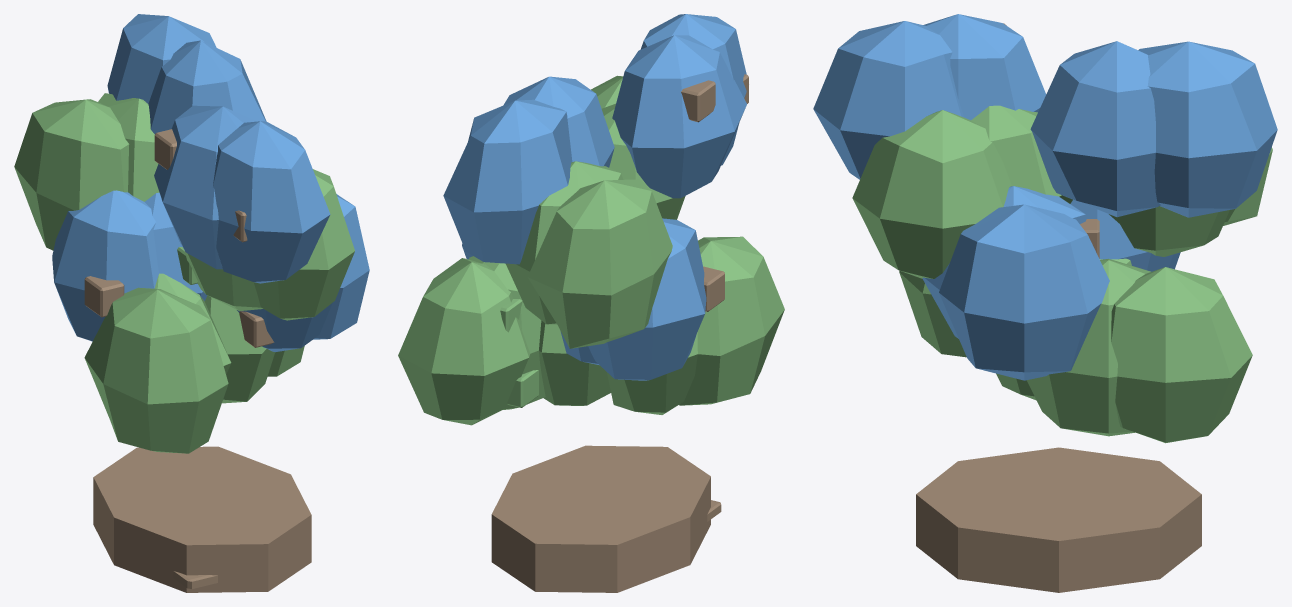
File: b08_lavender_patch.glb
3 views of the same model, side by side, from view 1: azimuth 30°, elevation 25°; view 2: azimuth 150°, elevation 25°; view 3: azimuth 270°, elevation 25° (orthographic). The views are drawn at different scales.
Parts seen in each view (by area): view 1: b08_lavender_patch; view 2: b08_lavender_patch; view 3: b08_lavender_patch.
Part boxes in pixels (x1,y1,x2,y2): b08_lavender_patch: (14, 14, 369, 592); b08_lavender_patch: (398, 14, 784, 592); b08_lavender_patch: (813, 14, 1277, 592).
Size of the model in its own units: 0.456 by 0.756 by 0.614.
